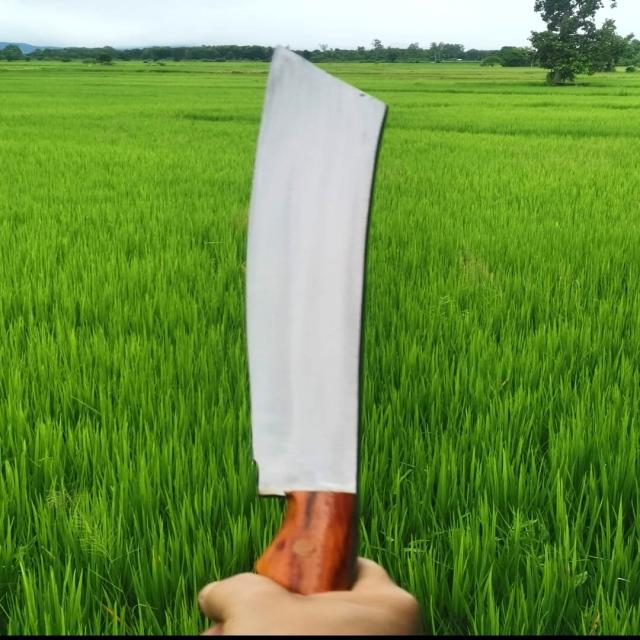eto: (198, 31, 435, 636)
